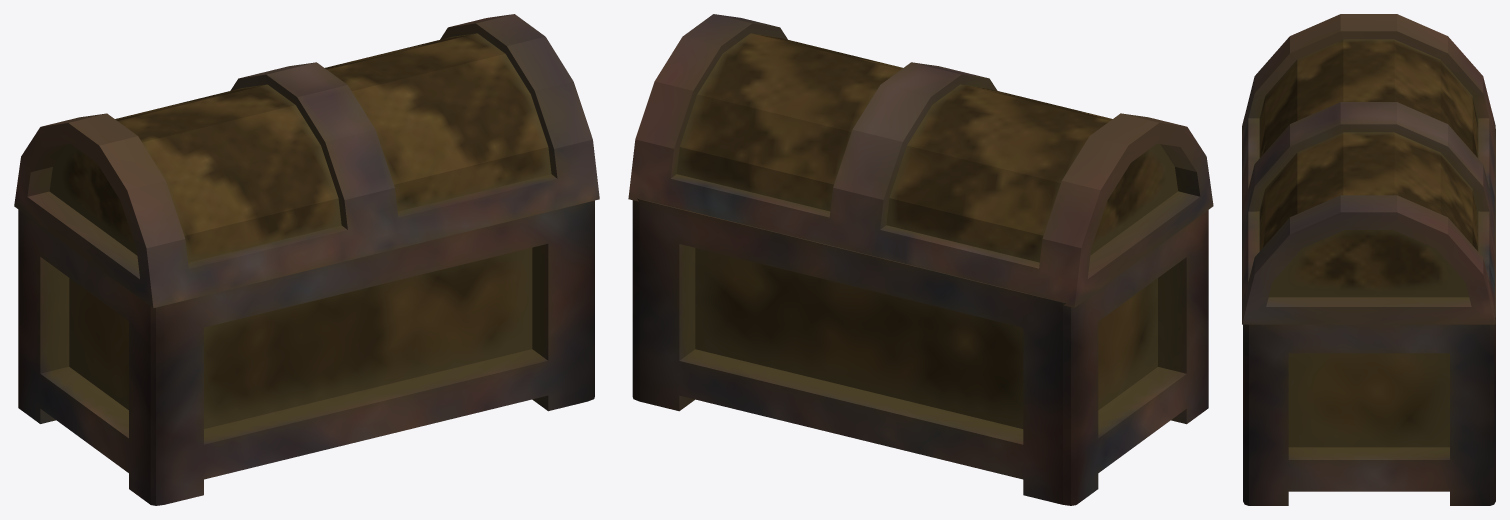
The model's file is Chest_Box.fbx.
3 renders of one model, left to right at view 1: azimuth 30°, elevation 25°; view 2: azimuth 150°, elevation 25°; view 3: azimuth 270°, elevation 25°, orthographic. The views are drawn at different scales.
Visible parts, largest first — view 1: Chest_Box, Chest_Box_Top; view 2: Chest_Box, Chest_Box_Top; view 3: Chest_Box_Top, Chest_Box.
Boxes of the visible parts, x1=… form: Chest_Box: x1=18, y1=200, x2=594, y2=505; Chest_Box_Top: x1=14, y1=14, x2=599, y2=307; Chest_Box: x1=632, y1=198, x2=1208, y2=505; Chest_Box_Top: x1=628, y1=14, x2=1213, y2=307; Chest_Box_Top: x1=1242, y1=14, x2=1495, y2=324; Chest_Box: x1=1243, y1=128, x2=1495, y2=505.
Size of the model in its own units: 112 by 77.16 by 60.36.
1 material, 1 textured.
